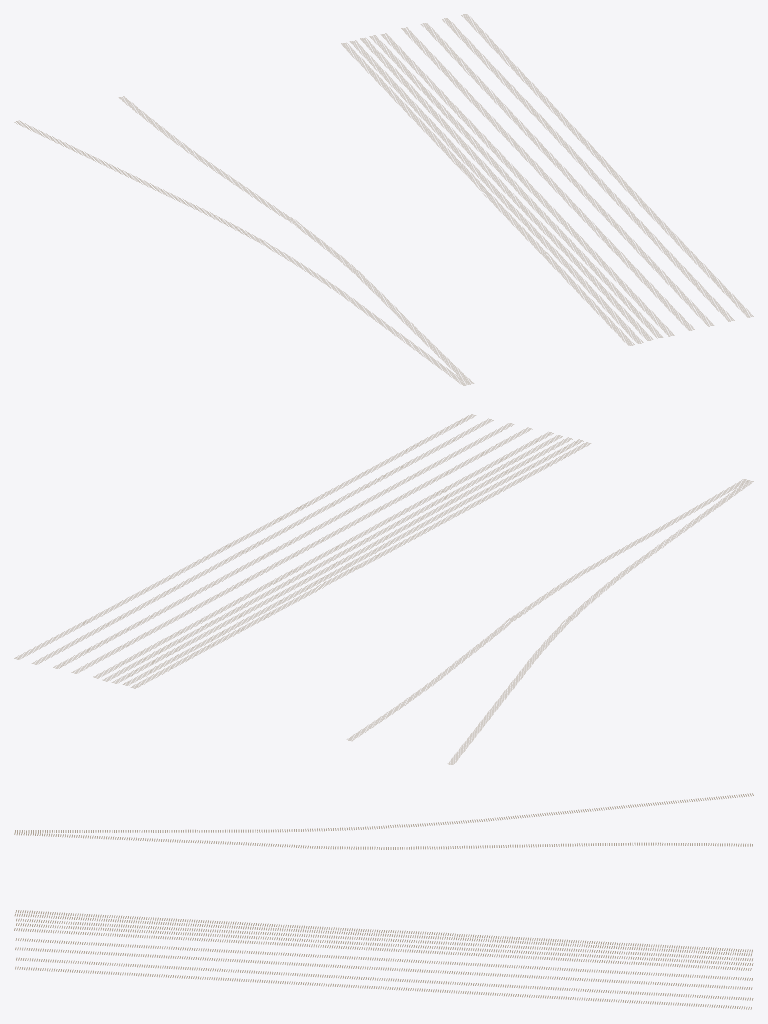
The model's file is c_1630_17826_rail_sleeper.glb.
The picture shows the model from 3 angles, top to bottom: view 1: azimuth 30°, elevation 25°; view 2: azimuth 150°, elevation 25°; view 3: azimuth 270°, elevation 25°; orthographic projection. The views are drawn at different scales.
Parts seen in each view (by area): view 1: geometry_0; view 2: geometry_0; view 3: geometry_0.
Boxes of the visible parts, left/top/right/bottom form: geometry_0: left=14, top=14, right=753, bottom=385; geometry_0: left=14, top=414, right=753, bottom=764; geometry_0: left=14, top=793, right=753, bottom=1009.
Size of the model in its own units: 177 by 1.81 by 257.
